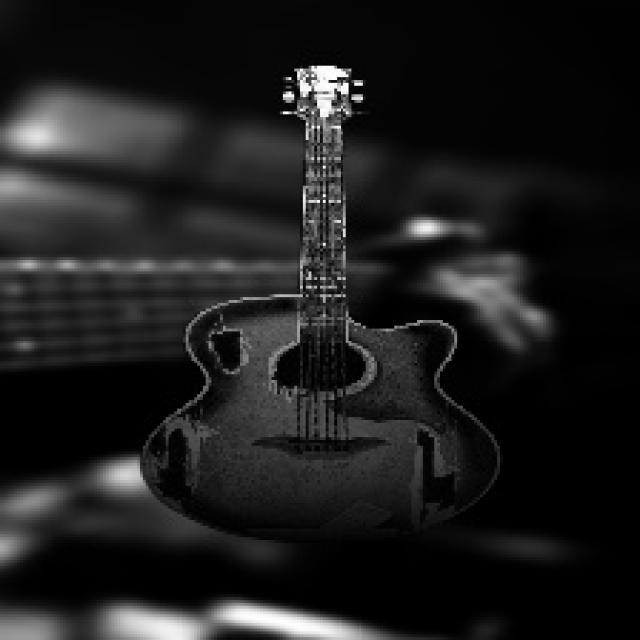guitar: (134, 65, 502, 552), (0, 215, 536, 374)
